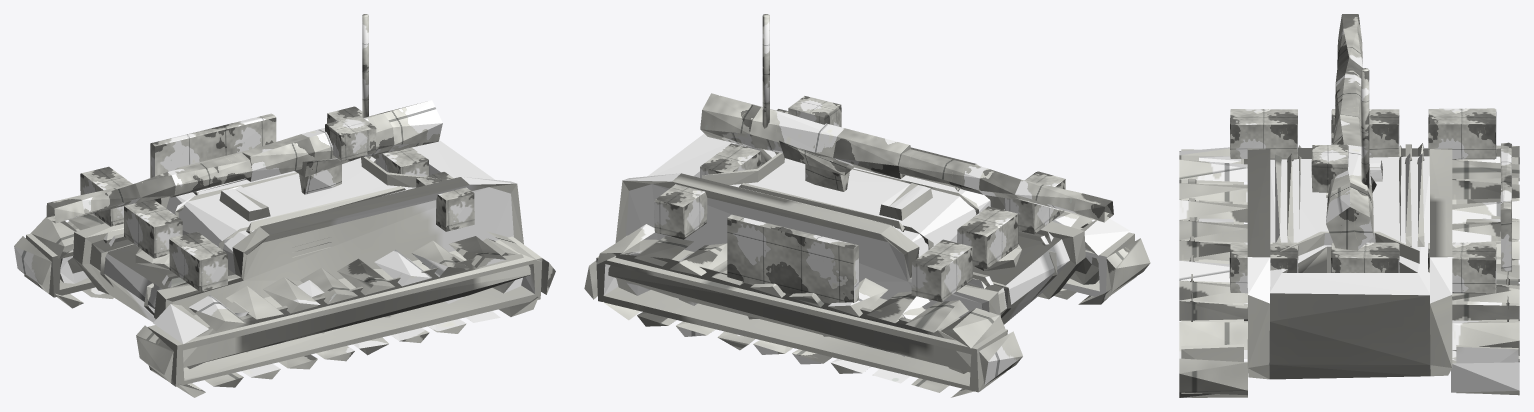
Rendered from light_tank_lod.glb.
The picture shows the model from 3 angles, left to right: view 1: azimuth 30°, elevation 25°; view 2: azimuth 150°, elevation 25°; view 3: azimuth 270°, elevation 25°; orthographic projection. The views are drawn at different scales.
Parts seen in each view (by area): view 1: light_tank_body_lod, light_tank_turret_lod; view 2: light_tank_body_lod, light_tank_turret_lod; view 3: light_tank_body_lod, light_tank_turret_lod.
Part boxes in pixels (x1,y1,x2,y2): light_tank_body_lod: [14, 106, 555, 397]; light_tank_turret_lod: [46, 14, 442, 223]; light_tank_body_lod: [584, 109, 1150, 397]; light_tank_turret_lod: [700, 14, 1113, 222]; light_tank_body_lod: [1179, 108, 1519, 397]; light_tank_turret_lod: [1311, 14, 1376, 250].
Bounding box in the file's own units: 3.36 × 1.95 × 2.08.
1 material, 1 textured.
